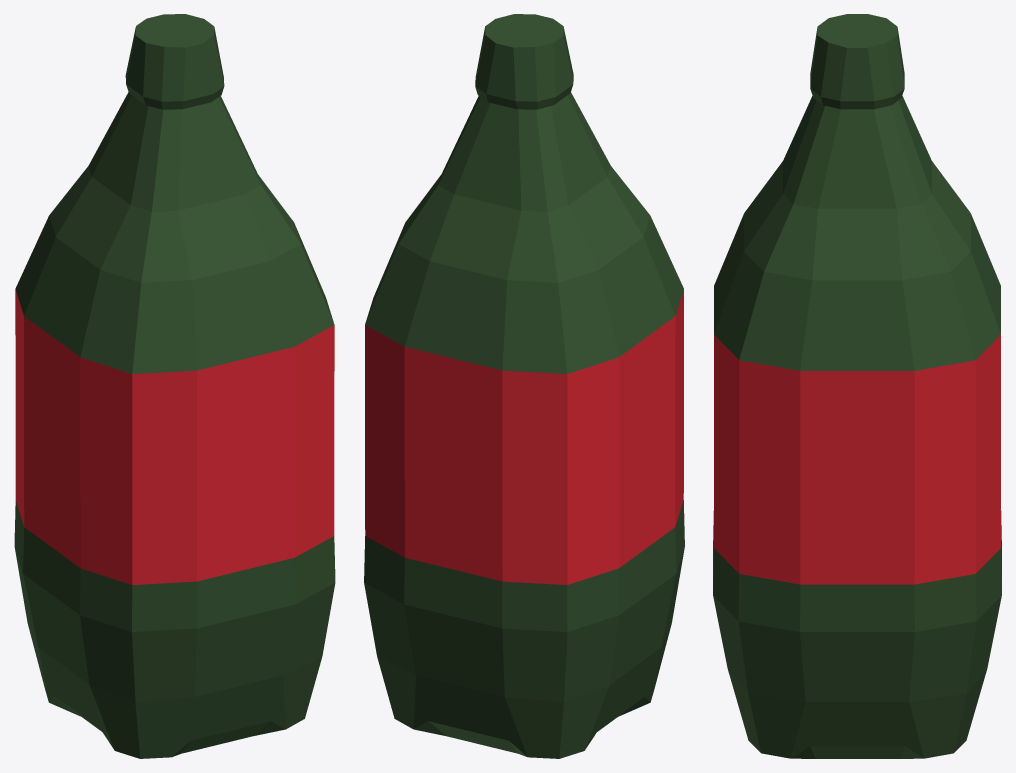
File: Bottle_5.fbx
3 renders of one model, left to right at view 1: azimuth 30°, elevation 25°; view 2: azimuth 150°, elevation 25°; view 3: azimuth 270°, elevation 25°, orthographic.
Parts seen in each view (by area): view 1: Bottle_5; view 2: Bottle_5; view 3: Bottle_5.
Part boxes in pixels (<box>): Bottle_5: <box>14,14,335,758</box>; Bottle_5: <box>364,14,684,758</box>; Bottle_5: <box>713,14,1001,758</box>.
Bounding box in the file's own units: 0.2247 × 0.2247 × 0.5942.
